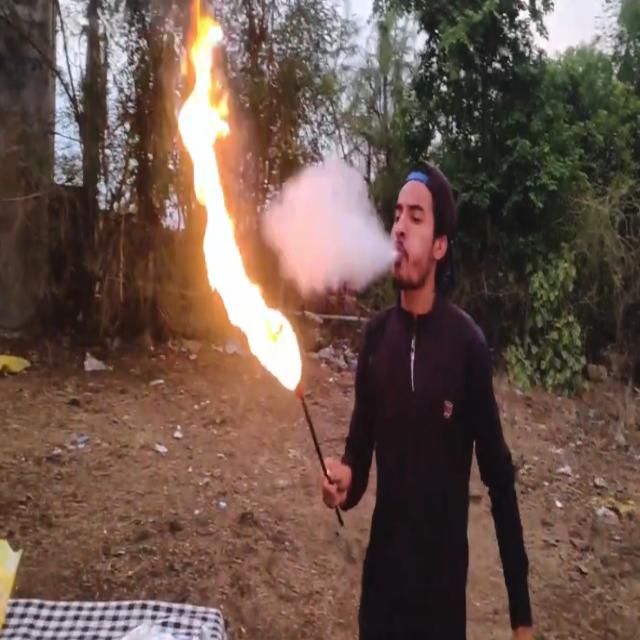fire: (178, 0, 302, 391)
